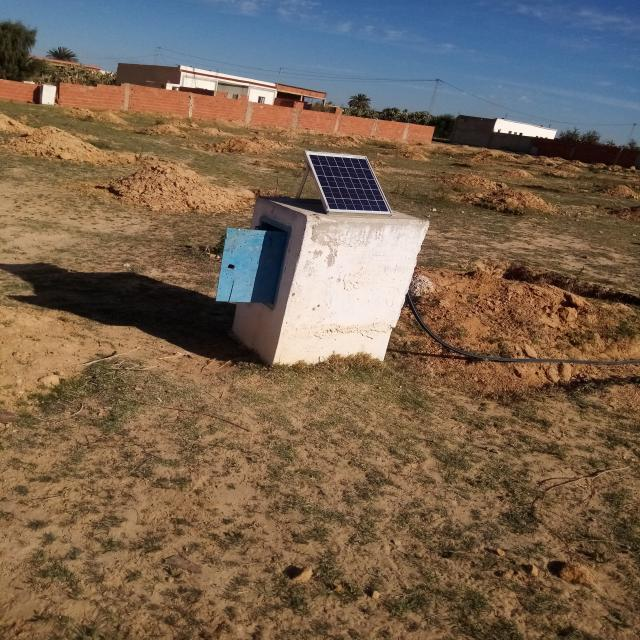no faulty: (305, 151, 393, 214)
